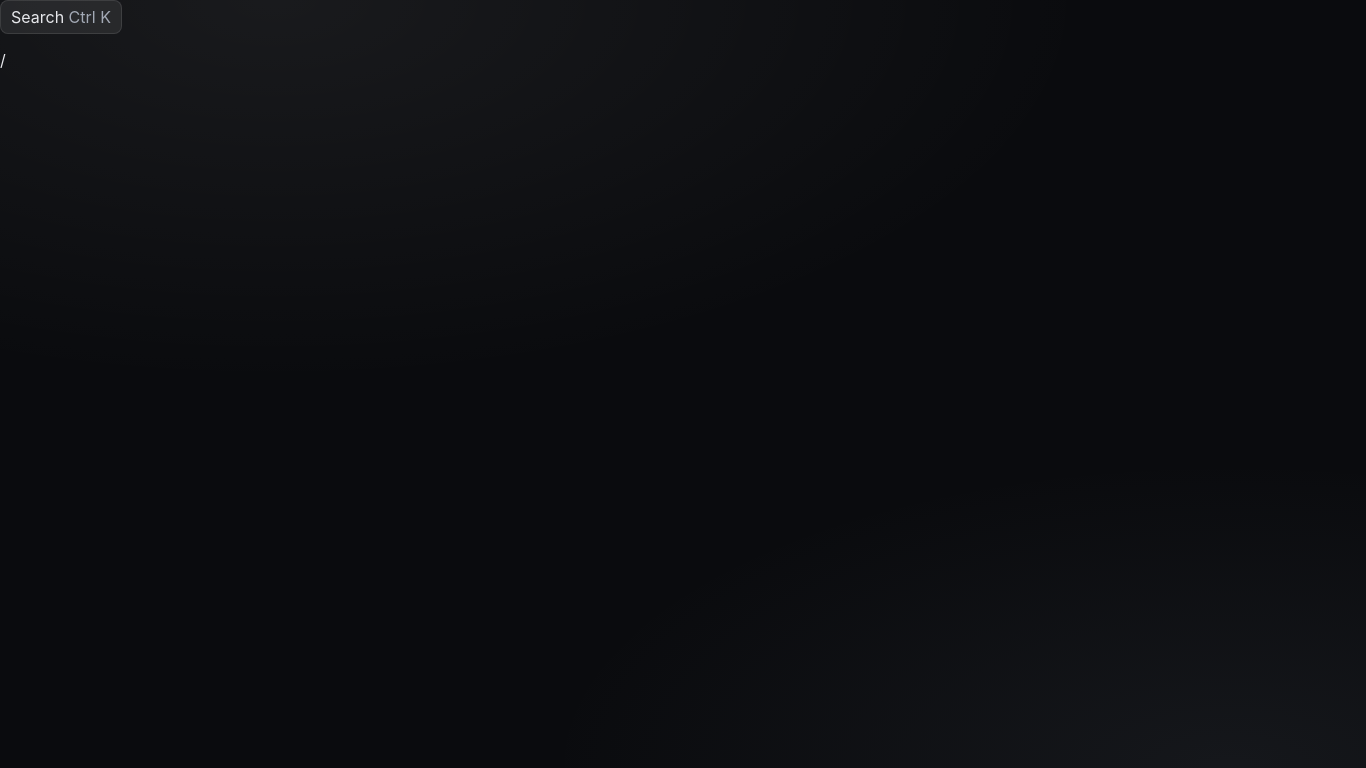
Test: Command palette › finds chats, cards and files, and goes to each
This screenshot has width=1366, height=768.
Press k
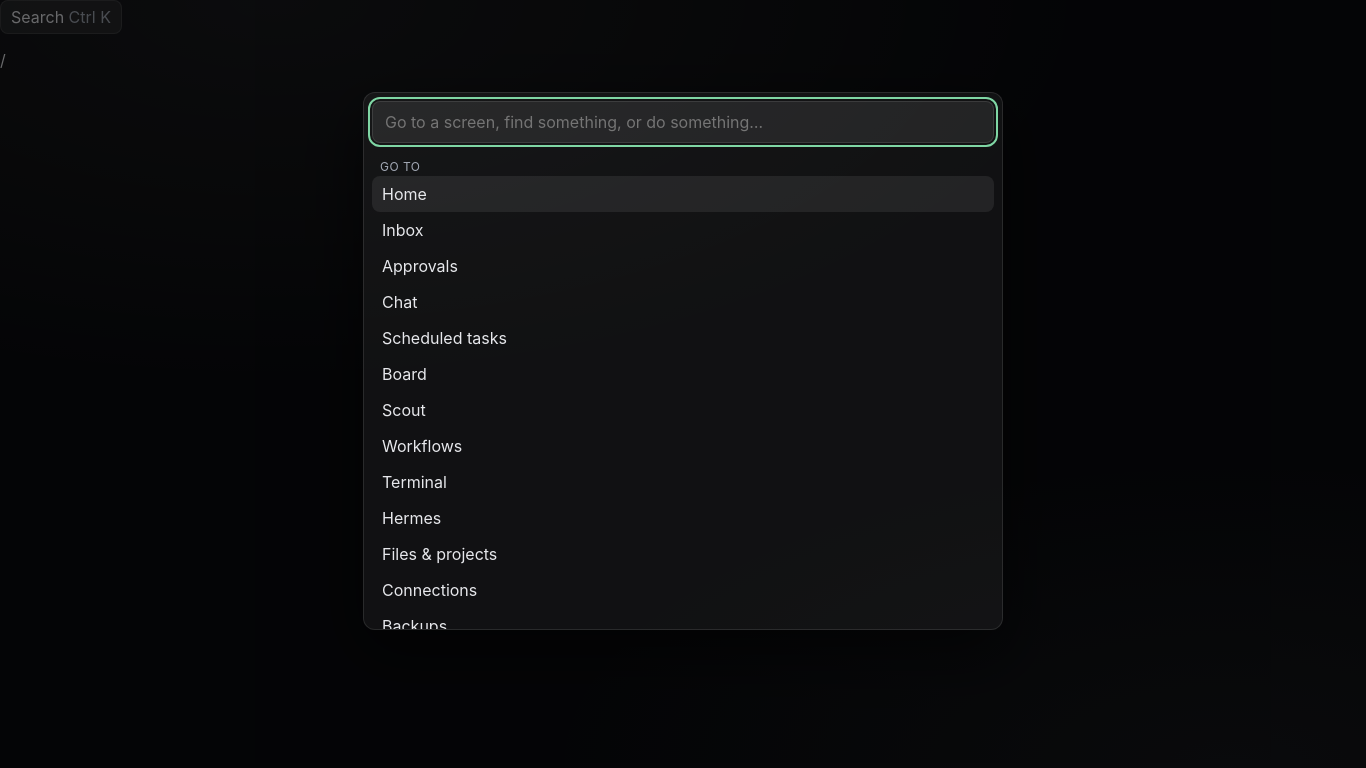
Type "zebra" into the dropdown at (683, 122), box [372,101,994,143]
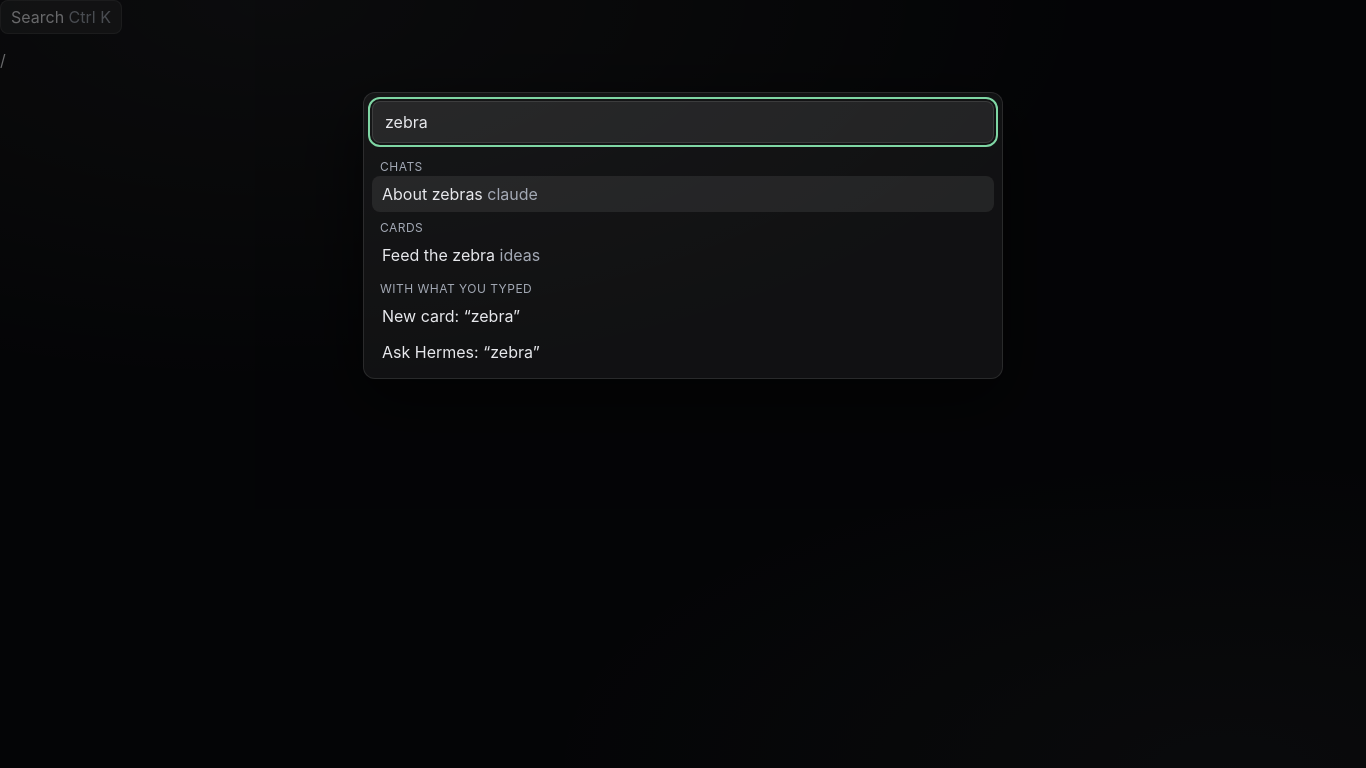
Expected: the option "Feed the zebra ideas" is shown, [382,245,540,265]
Click the option "About zebras claude" at (432, 194), box [372,176,994,212]
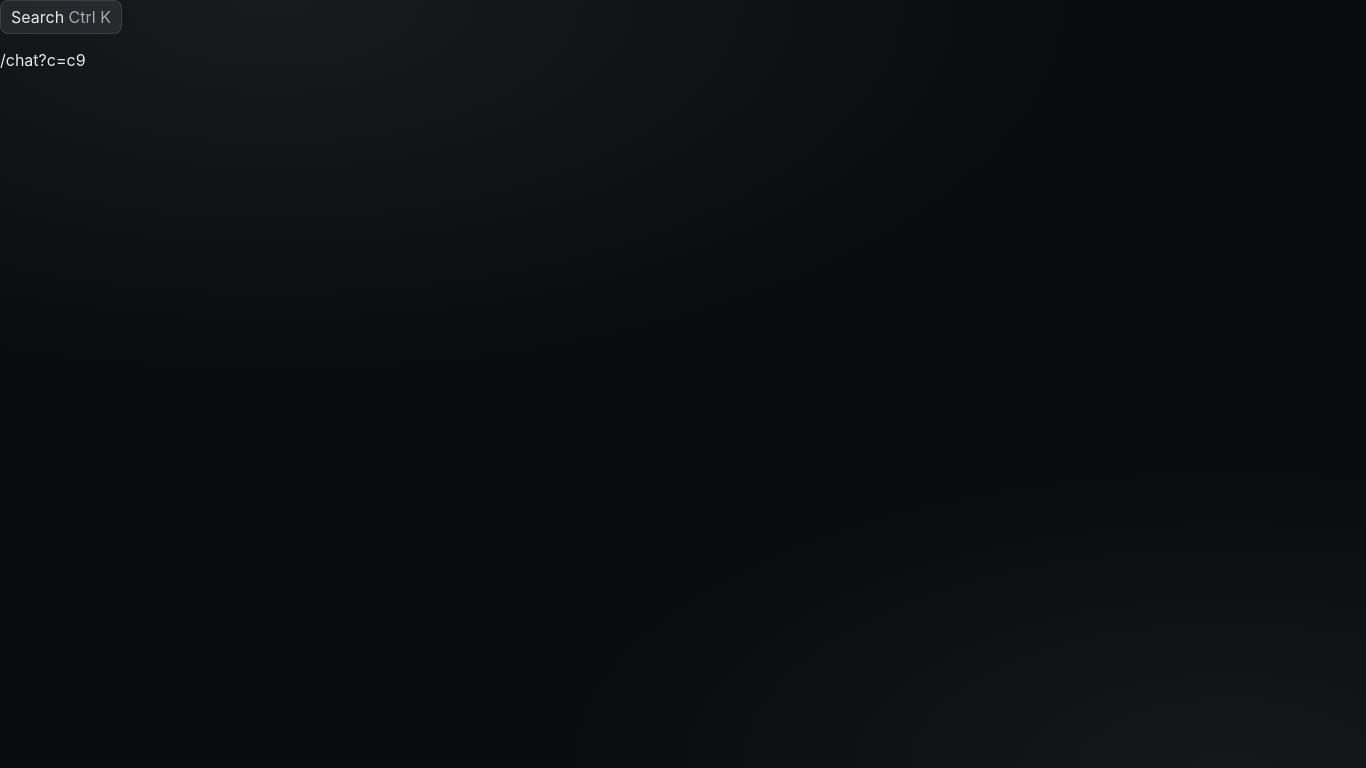
Expected: the text with test id "where" reads "/chat?c=c9", [0,50,86,70]
